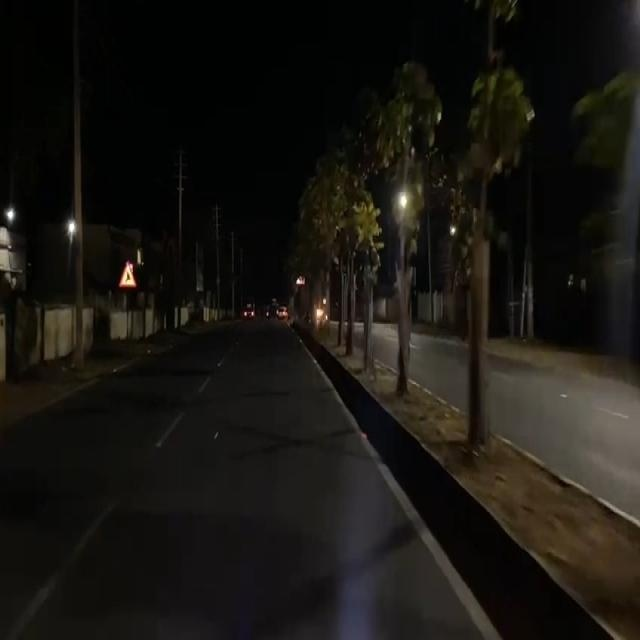bien_nguy_hiem: (117, 259, 138, 290)
